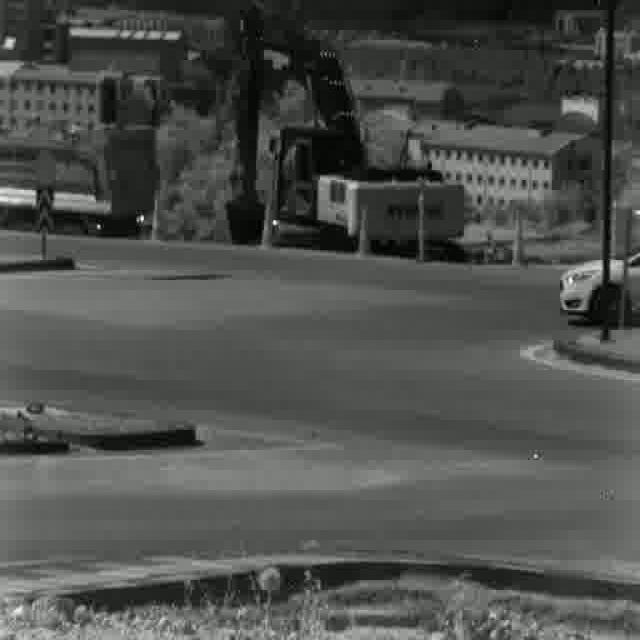Car: (556, 251, 640, 327)
